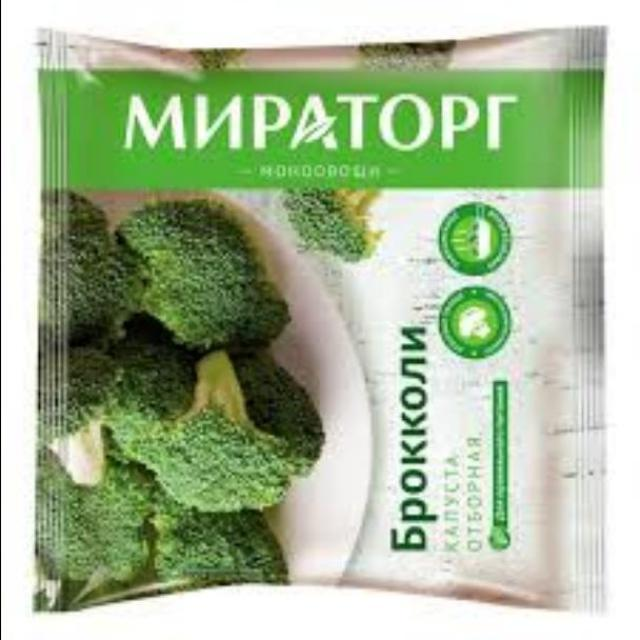Broccoli: (62, 346, 212, 572), (117, 190, 310, 328), (126, 339, 282, 501), (149, 472, 285, 595), (269, 166, 390, 276)
